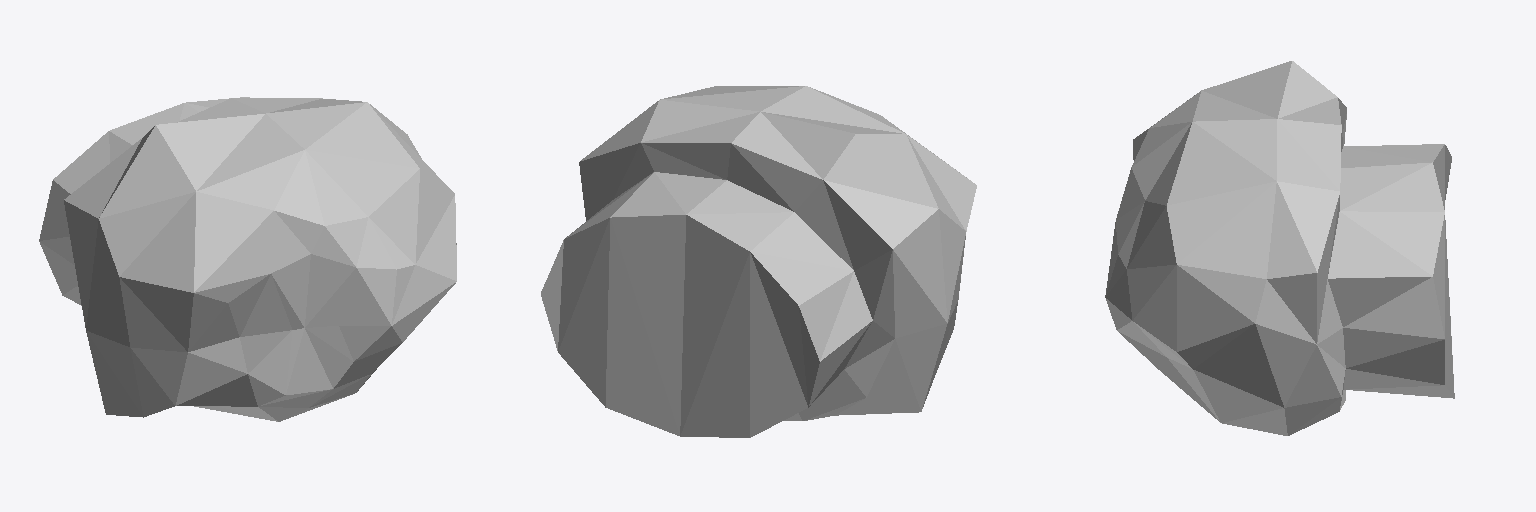
File: ram2.obj
The picture shows the model from 3 angles: view 1: azimuth 30°, elevation 25°; view 2: azimuth 150°, elevation 25°; view 3: azimuth 270°, elevation 25°; orthographic projection.
Parts seen in each view (by area): view 1: Ram-2_Cylinder.043; view 2: Ram-2_Cylinder.043; view 3: Ram-2_Cylinder.043.
Boxes of the visible parts, x1,y1,x2,y2 form: Ram-2_Cylinder.043: [39, 97, 456, 421]; Ram-2_Cylinder.043: [541, 86, 976, 437]; Ram-2_Cylinder.043: [1105, 61, 1454, 435].
Size of the model in its own units: 2.18 by 1.79 by 1.89.